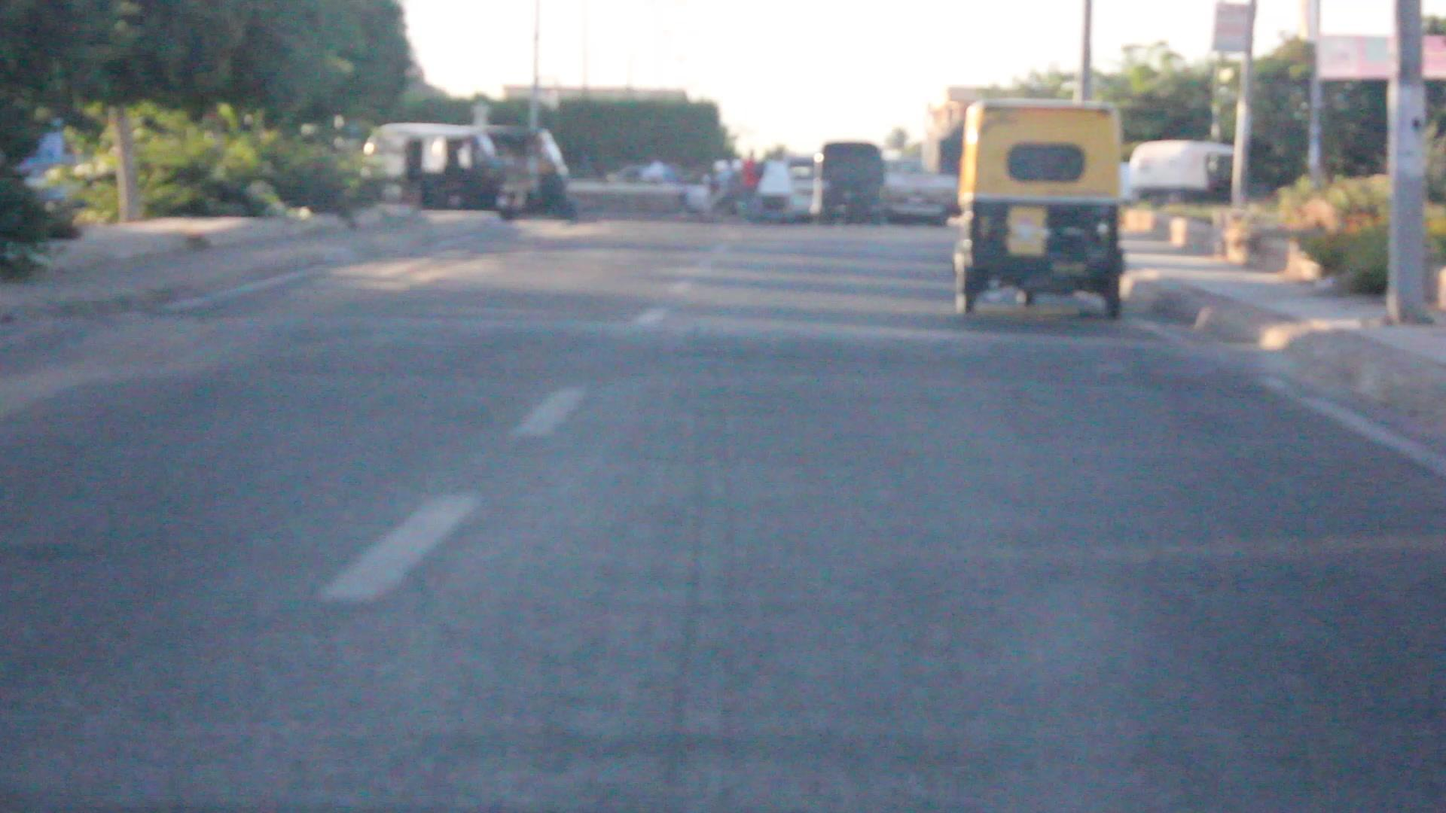Bump: (60, 305, 1258, 386)
